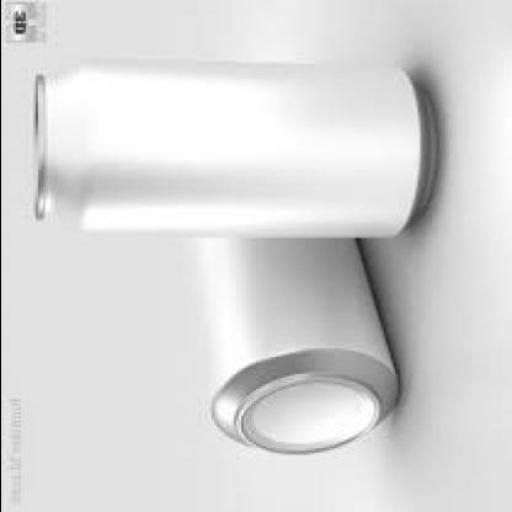metal: (30, 61, 436, 238), (196, 238, 397, 455)
